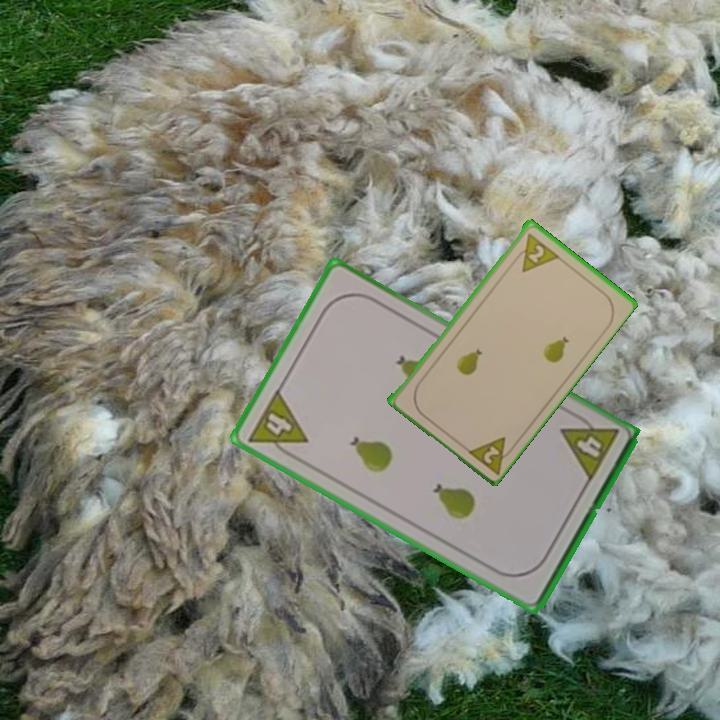2p: (462, 432, 519, 477), (510, 229, 561, 275)
4p: (244, 385, 311, 464), (557, 408, 621, 485)
